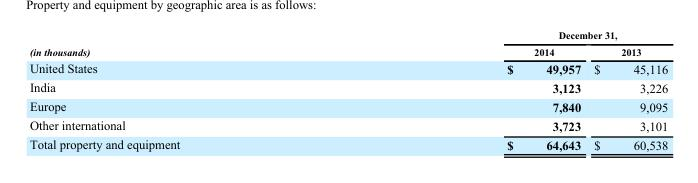table: (28, 29, 667, 151)
table column: (28, 29, 342, 151), (342, 29, 586, 151), (586, 29, 667, 151)
table column header: (28, 29, 667, 58)
table row: (28, 58, 667, 77), (28, 77, 667, 96), (28, 96, 667, 115), (28, 115, 667, 134), (28, 134, 667, 151), (28, 43, 667, 58), (28, 29, 667, 43)
table spanning cell: (28, 29, 342, 58), (342, 29, 667, 43)
